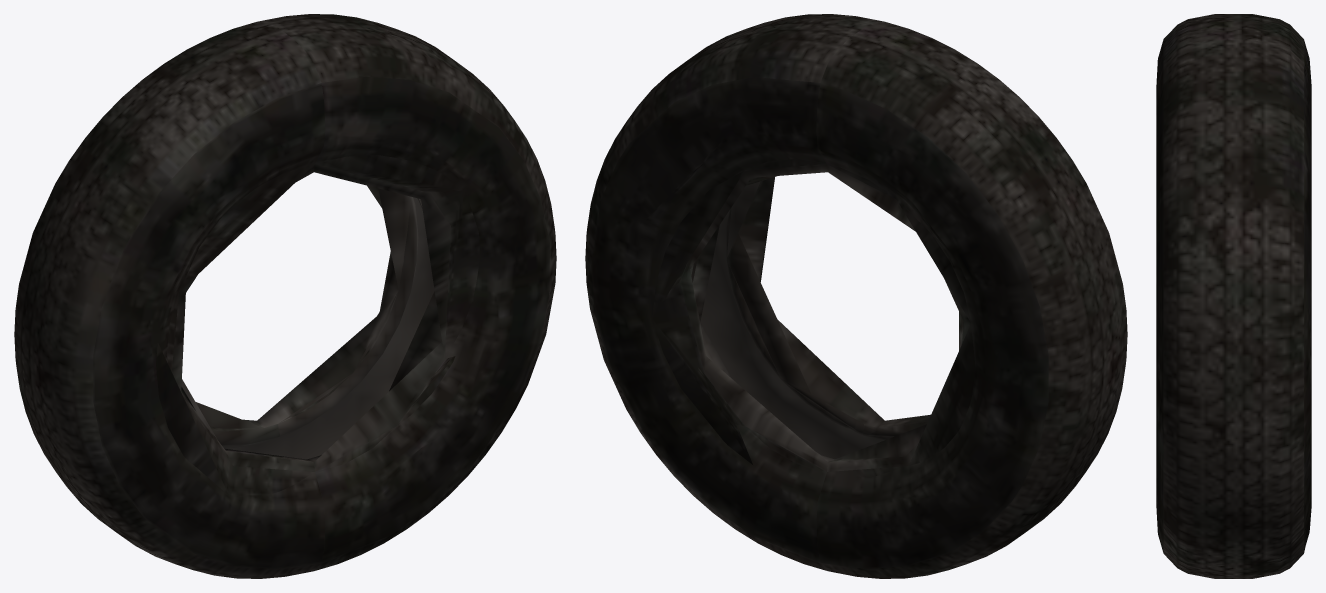
The model's file is old_tyre.glb.
The picture shows the model from 3 angles, left to right: view 1: azimuth 30°, elevation 25°; view 2: azimuth 150°, elevation 25°; view 3: azimuth 270°, elevation 25°; orthographic projection. The views are drawn at different scales.
Visible parts, largest first — view 1: old_tyre, old_tyre_lo; view 2: old_tyre, old_tyre_lo; view 3: old_tyre.
Boxes of the visible parts, x1,y1,x2,y2 form: old_tyre: [14, 14, 556, 578]; old_tyre_lo: [156, 155, 479, 495]; old_tyre: [585, 14, 1127, 578]; old_tyre_lo: [652, 159, 1028, 506]; old_tyre: [1156, 14, 1311, 578].
Size of the model in its own units: 0.6 by 0.6 by 0.165.
Materials: 1 (1 with a texture image).
